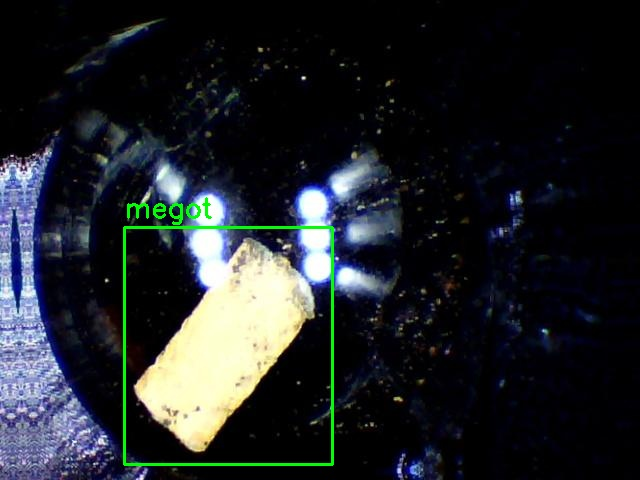megot: (124, 227, 332, 464)
